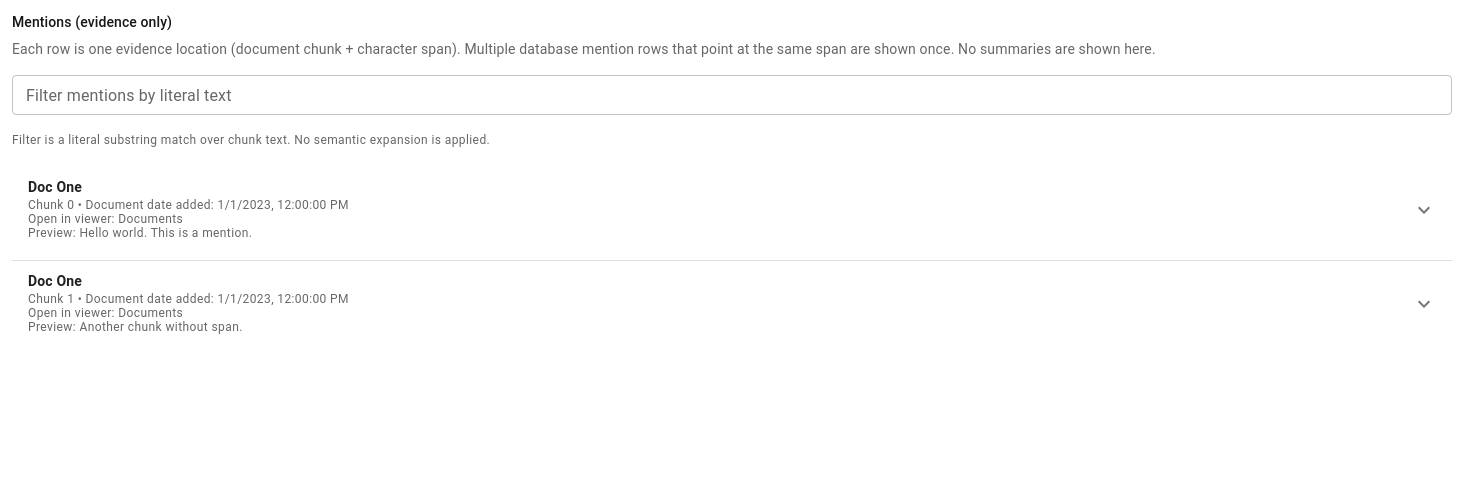
Test: EntityMentionsList › toggles accordion details
The image size is (1464, 479).
Click the 1st text "Doc One" at (55, 187), box [28,179,82,196]
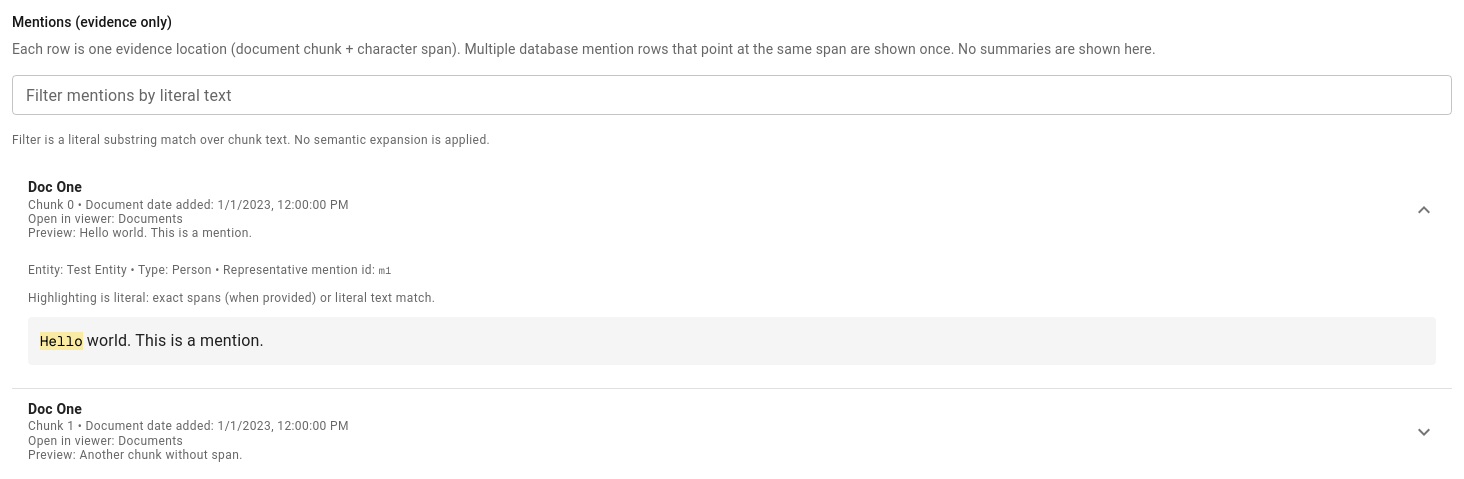
Result: the text "Entity: Test Entity" is shown at [28,263,392,277]
